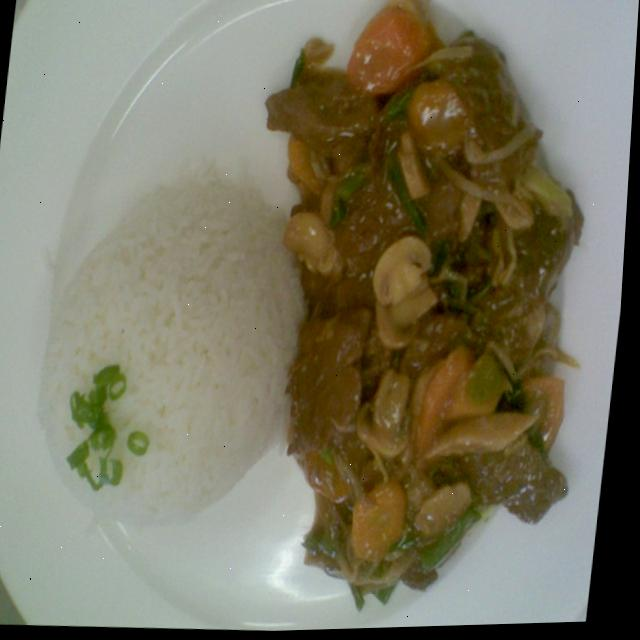牛肉菜式: (157, 0, 640, 636)
